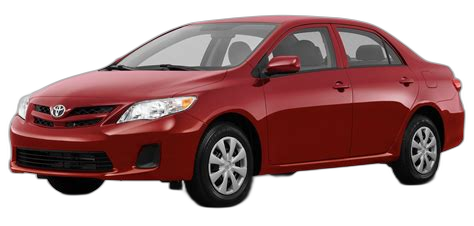car: (5, 9, 466, 207)
